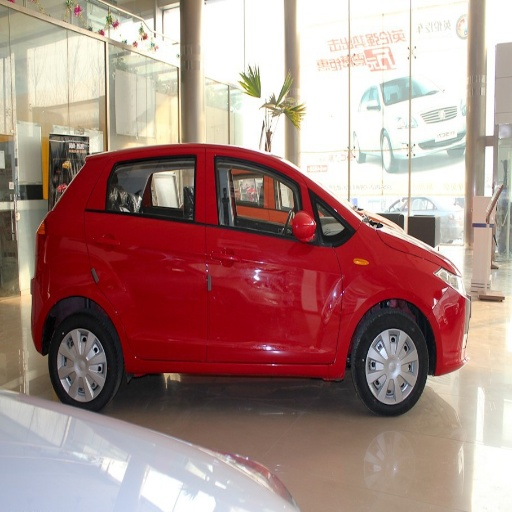front_right_door: (205, 157, 344, 361)
